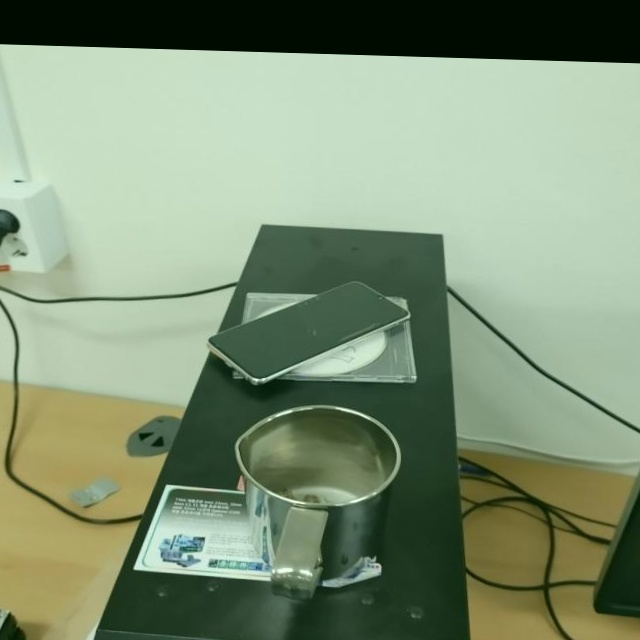cup: (227, 399, 403, 606)
phone: (202, 275, 414, 392)
